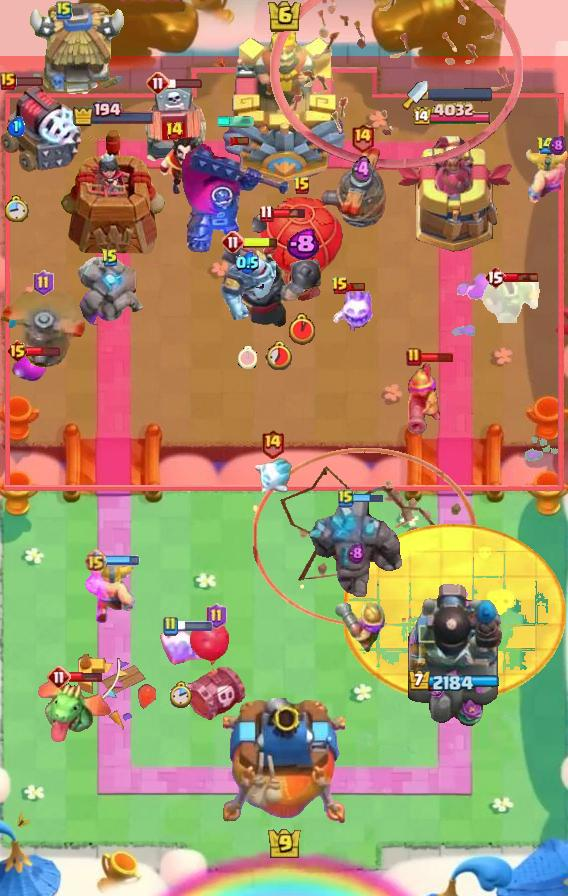bar: (391, 132, 515, 256)
bat: (251, 456, 293, 498)
bomb-tower: (403, 359, 443, 435), (335, 599, 385, 653)
cannon-cart: (257, 192, 347, 302)
cannoneer-tower: (307, 499, 405, 601)
dark-prince: (317, 145, 407, 229), (1, 286, 85, 374)
electro-spirit: (285, 227, 319, 260), (352, 155, 372, 185), (237, 251, 260, 274), (347, 543, 366, 566), (7, 115, 25, 137), (549, 135, 566, 156)
electro-wizard: (34, 676, 114, 744)
elixir: (266, 340, 295, 370), (289, 313, 315, 345), (4, 195, 28, 222), (171, 681, 194, 709), (239, 347, 258, 370)
elixir-golem-mid: (139, 84, 209, 170)
elixir-golem-small: (218, 245, 276, 323)
emote: (243, 235, 279, 248), (8, 75, 44, 87), (167, 77, 203, 89), (504, 271, 540, 283), (104, 554, 140, 566), (272, 207, 307, 219), (27, 345, 62, 357), (69, 671, 102, 683), (176, 621, 214, 631), (420, 353, 454, 364), (352, 493, 384, 504), (230, 134, 250, 146), (346, 280, 366, 291)
flying-machine: (481, 273, 541, 323)
goblin-giant: (84, 558, 136, 624), (524, 147, 568, 203)
golem: (0, 83, 84, 173)
guard: (253, 448, 477, 627)
ice-spirit: (216, 116, 256, 128)
inferno-tower: (180, 139, 292, 253)
king-tower: (220, 21, 348, 181), (223, 698, 345, 826)
king-tower-bar: (428, 88, 492, 101)
lumberjack: (158, 134, 214, 198)
miner: (11, 353, 47, 383)
mirror: (331, 285, 379, 333), (158, 627, 204, 669)
phoenix-egg: (344, 524, 566, 702)
prince: (27, 3, 129, 99)
queen-tower: (59, 128, 169, 256)
royal-guardian: (233, 211, 325, 329)
royal-recruit-evolution: (183, 620, 249, 724)
selected: (407, 670, 499, 694), (72, 101, 156, 127), (414, 102, 495, 128)
skeleton-barrel: (269, 0, 523, 170)
text: (350, 123, 375, 154), (259, 429, 284, 460), (146, 71, 170, 95), (221, 230, 245, 254), (47, 665, 71, 689), (6, 339, 29, 363), (84, 548, 107, 572), (34, 270, 55, 296), (206, 603, 227, 629), (484, 265, 506, 289), (164, 121, 184, 141), (537, 136, 556, 155), (293, 176, 311, 196), (101, 248, 119, 268), (331, 276, 349, 296), (56, 0, 72, 20), (406, 347, 422, 367), (338, 488, 354, 508), (162, 616, 178, 636), (0, 72, 16, 90), (259, 204, 273, 223)
tower-bar: (402, 579, 504, 731)
valkyrie-evolution: (75, 257, 145, 325)
